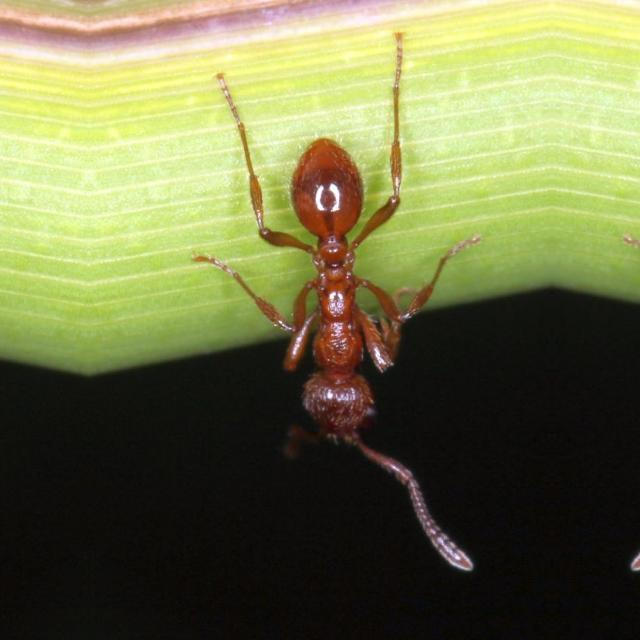Myrmica: (164, 92, 493, 452)
